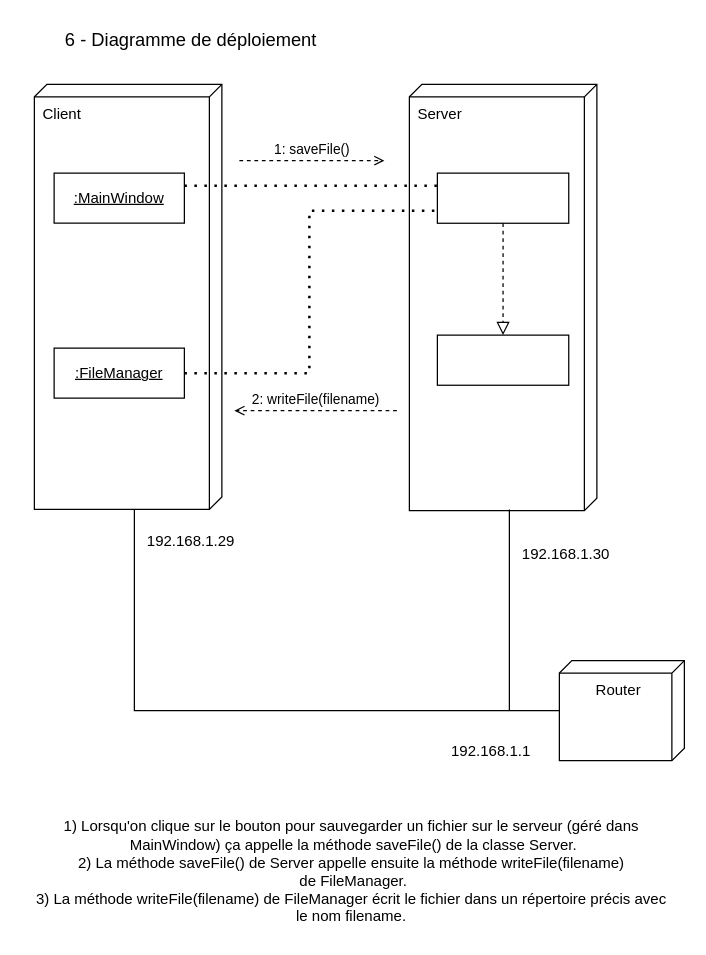
The diagram is 706 pixels wide and 955 high, and some of its shapes have lost their labels. The shapes that lost their labels are listed below. From the top down, each one's centre as x and y in pixels, then its label:
At [502,197]: ":Server".
At [502,359]: ":ServerInterface".
